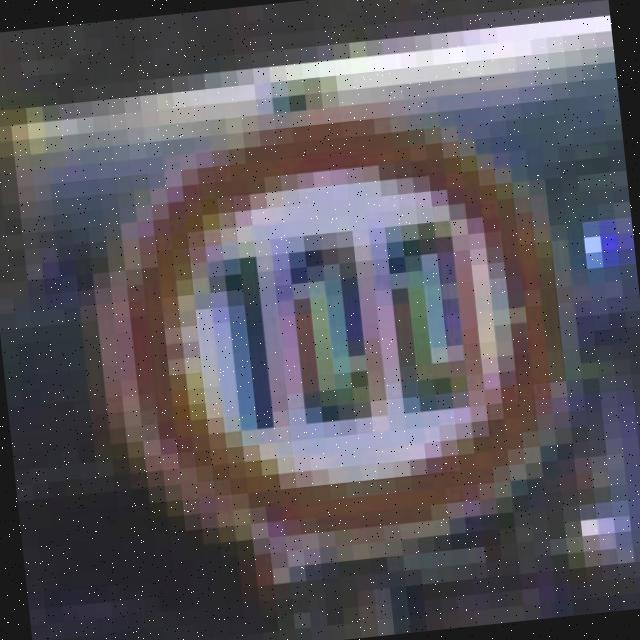Ograniczenie predkosci do 100: (88, 99, 588, 568)
